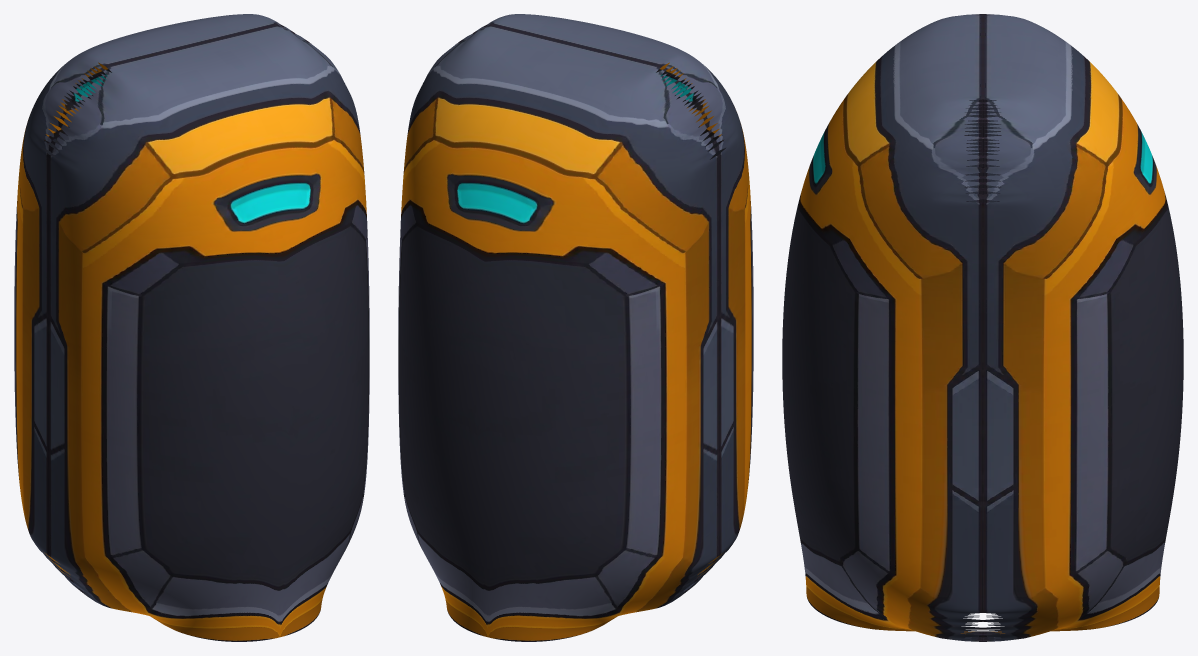
Rendered from wall_hatch.glb.
3 views of the same model, side by side, from view 1: azimuth 30°, elevation 25°; view 2: azimuth 150°, elevation 25°; view 3: azimuth 270°, elevation 25° (orthographic).
Parts seen in each view (by area): view 1: wall_hatch; view 2: wall_hatch; view 3: wall_hatch.
Part boxes in pixels (x1=…): wall_hatch: x1=14, y1=14, x2=369, y2=641; wall_hatch: x1=398, y1=14, x2=753, y2=641; wall_hatch: x1=782, y1=14, x2=1183, y2=641.
Bounding box in the file's own units: 0.9808 × 1.73 × 1.17.
1 material, 1 textured.
